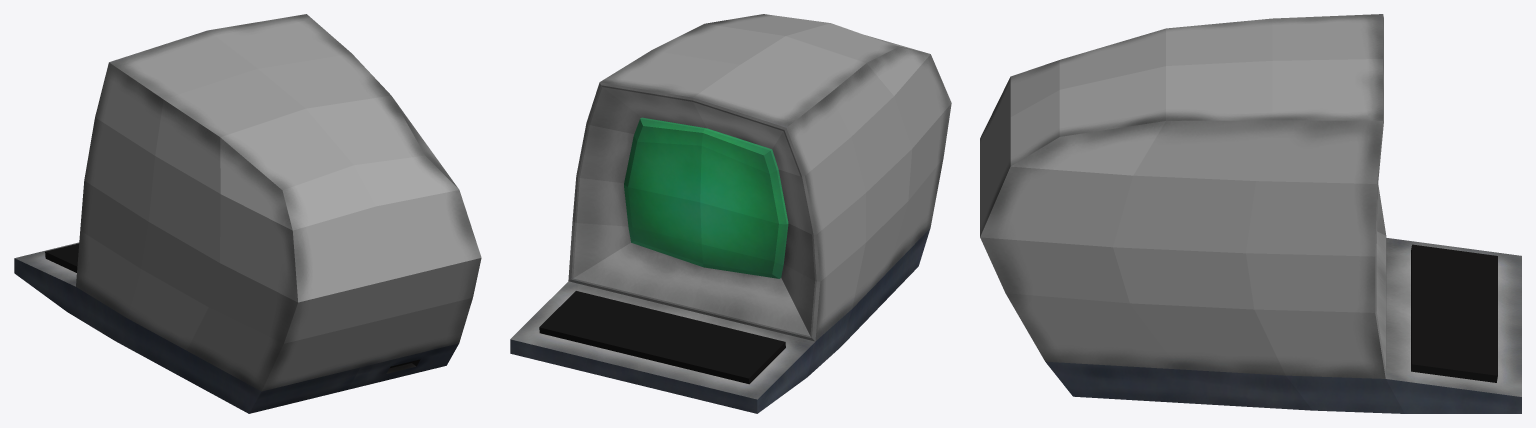
Rendered from OldTerminalADM3A.fbx.
3 views of the same model, side by side, from view 1: azimuth 30°, elevation 25°; view 2: azimuth 150°, elevation 25°; view 3: azimuth 270°, elevation 25° (orthographic). The views are drawn at different scales.
Visible parts, largest first — view 1: Cube; view 2: Cube; view 3: Cube.
Boxes of the visible parts, <box> form: Cube: <box>14,14,481,413</box>; Cube: <box>510,14,951,413</box>; Cube: <box>980,14,1521,413</box>.
Size of the model in its own units: 252 by 236 by 408.
Materials: 1 (1 with a texture image).
